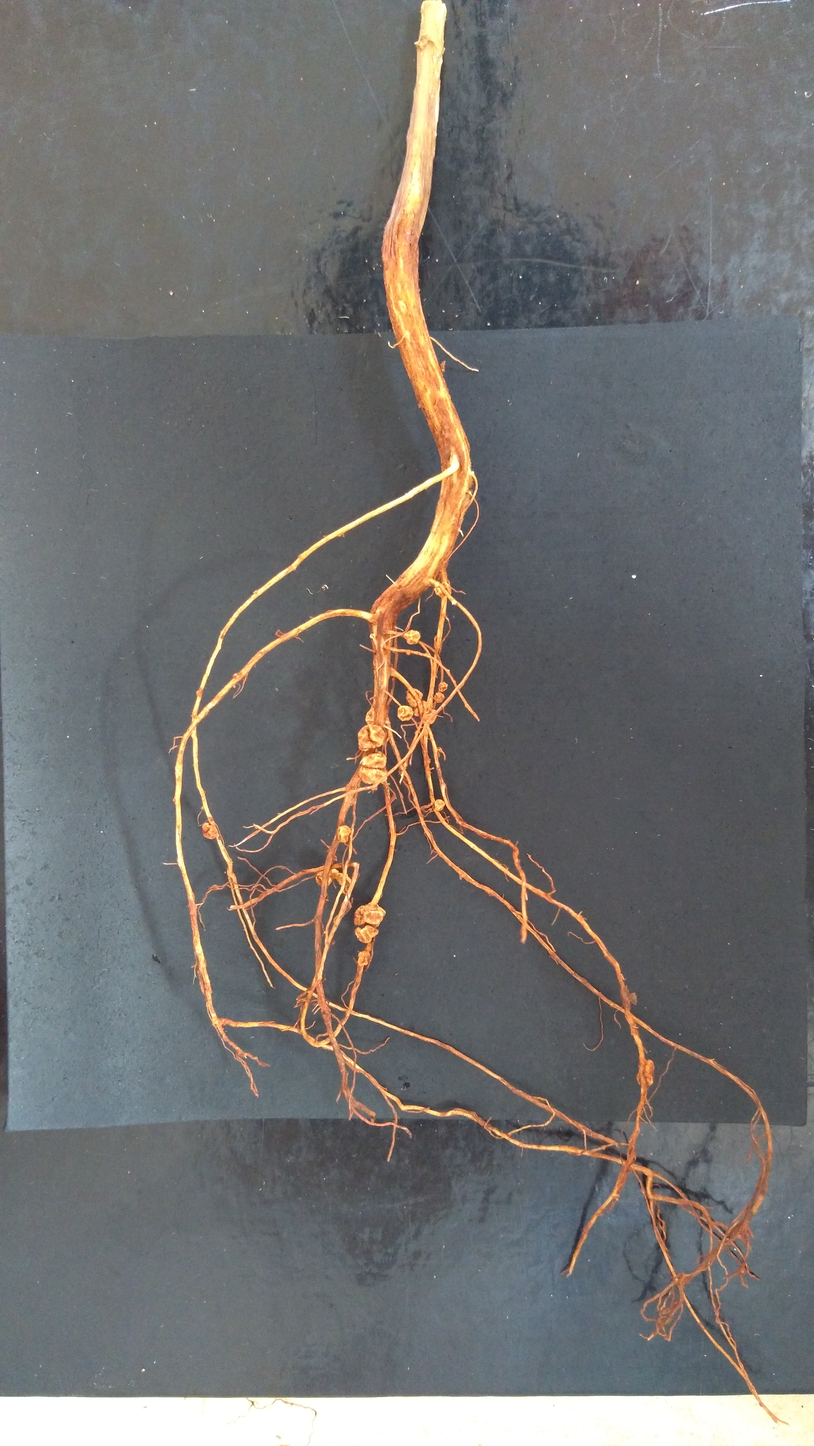nodule: (352, 901, 387, 928), (356, 723, 386, 752), (634, 1056, 657, 1089), (356, 765, 389, 785), (352, 925, 382, 945), (359, 750, 388, 770), (330, 867, 352, 888), (313, 868, 334, 888), (404, 688, 424, 707), (394, 704, 414, 722), (402, 629, 423, 646), (201, 821, 219, 840), (336, 824, 352, 844), (362, 707, 378, 725), (356, 949, 371, 968), (412, 700, 427, 718), (424, 707, 437, 726), (440, 579, 453, 596), (434, 798, 447, 813), (433, 691, 446, 705), (437, 681, 449, 693), (433, 587, 445, 598)
